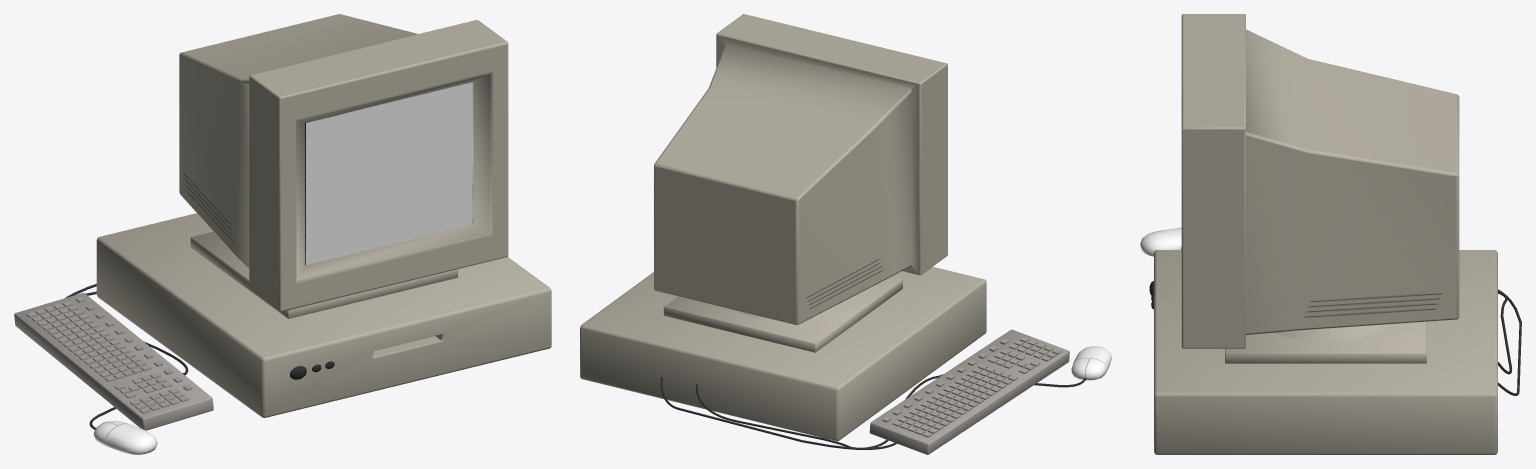
File: computer.fbx
The picture shows the model from 3 angles, left to right: view 1: azimuth 30°, elevation 25°; view 2: azimuth 150°, elevation 25°; view 3: azimuth 270°, elevation 25°; orthographic projection. The views are drawn at different scales.
Visible parts, largest first — view 1: Würfel_1, Boole_1, Würfel_1_2, tastatur, Würfel_2, maus; view 2: Würfel_1, Boole_1, tastatur, Würfel_2, maus, Sweep_2, Sweep_1; view 3: Würfel_1, Boole_1, Würfel_2, Zylinder, maus, Sweep_2.
Boxes of the visible parts, x1=… form: Würfel_1: x1=179, y1=14, x2=508, y2=312; Boole_1: x1=96, y1=213, x2=551, y2=417; Würfel_1_2: x1=306, y1=82, x2=472, y2=265; tastatur: x1=14, y1=292, x2=213, y2=430; Würfel_2: x1=190, y1=231, x2=457, y2=318; maus: x1=93, y1=421, x2=157, y2=454; Würfel_1: x1=654, y1=14, x2=947, y2=324; Boole_1: x1=580, y1=266, x2=986, y2=441; tastatur: x1=869, y1=329, x2=1069, y2=454; Würfel_2: x1=663, y1=277, x2=902, y2=352; maus: x1=1071, y1=346, x2=1111, y2=380; Sweep_2: x1=660, y1=377, x2=1086, y2=449; Sweep_1: x1=695, y1=374, x2=943, y2=449; Würfel_1: x1=1181, y1=14, x2=1459, y2=348; Boole_1: x1=1154, y1=250, x2=1497, y2=454; Würfel_2: x1=1225, y1=321, x2=1426, y2=363; Zylinder: x1=1273, y1=324, x2=1391, y2=341; maus: x1=1140, y1=227, x2=1181, y2=256; Sweep_2: x1=1498, y1=289, x2=1521, y2=395.
Size of the model in its own units: 302 by 201 by 222.
Materials: 6 (2 with a texture image).
